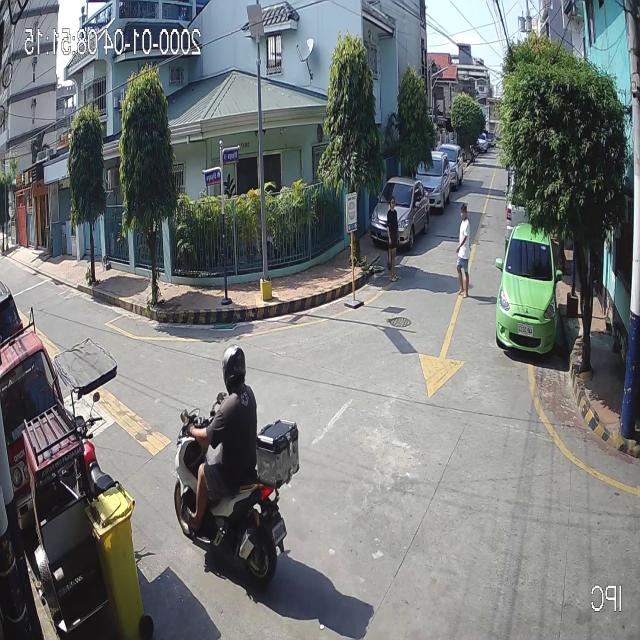standing: (386, 195, 400, 282)
walking: (457, 203, 472, 299)
